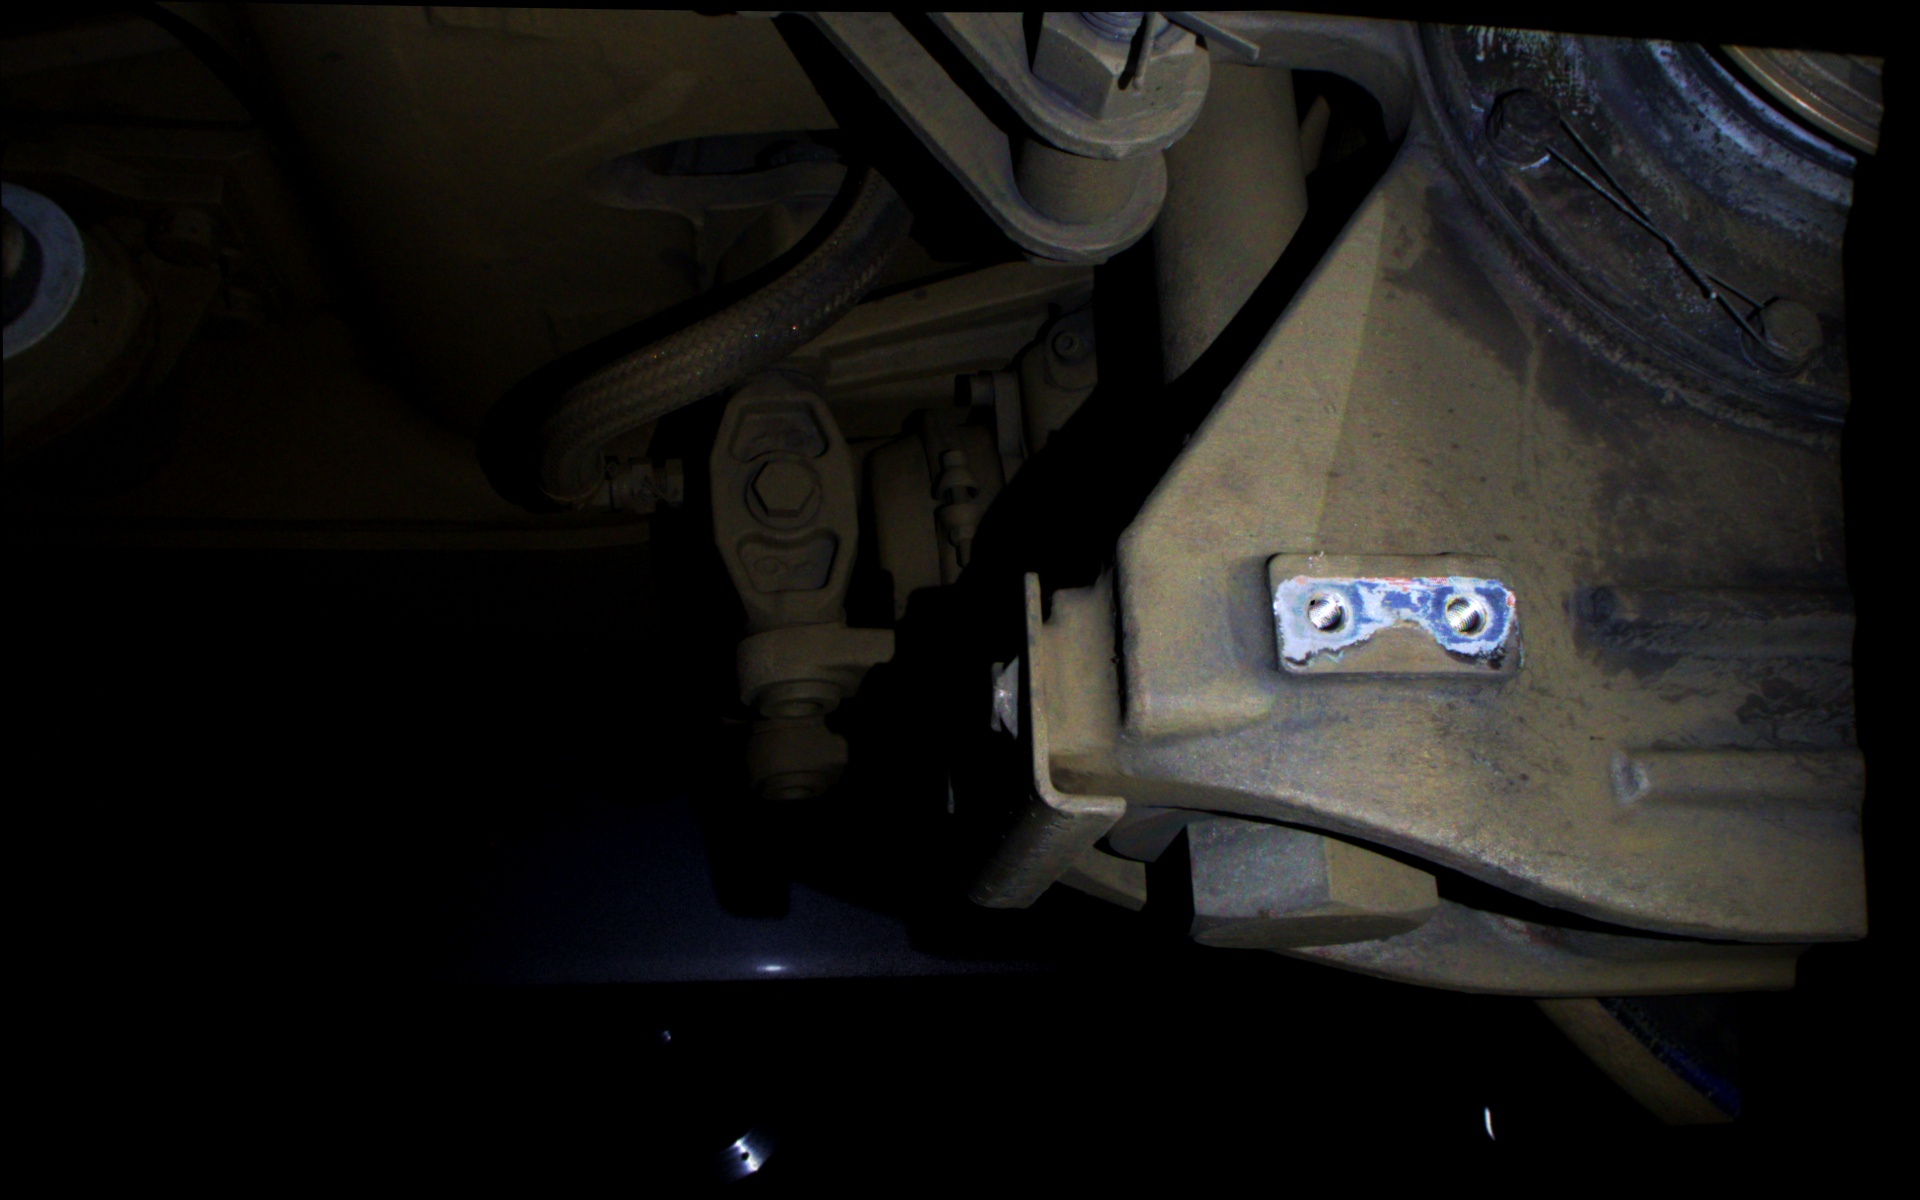bolthead1: (1302, 574, 1357, 644)
bolthead2: (1432, 582, 1501, 657)
